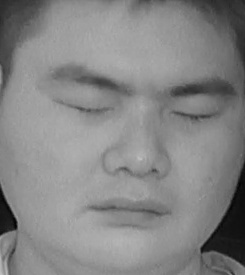blink: (50, 84, 110, 123), (175, 97, 225, 131)
mouth: (92, 186, 169, 230)
